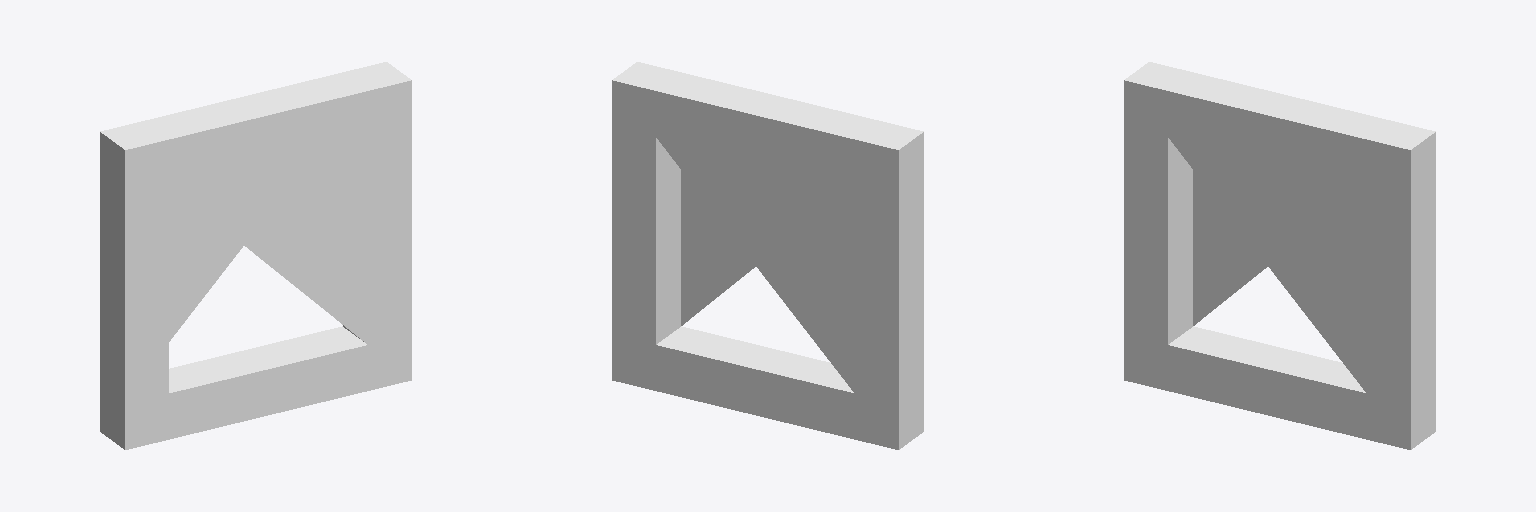
3 views of the same model, side by side, from view 1: azimuth 30°, elevation 25°; view 2: azimuth 150°, elevation 25°; view 3: azimuth 330°, elevation 25° (orthographic).
Parts seen in each view (by area): view 1: Layer_Model_Front; view 2: Layer_Model_Front; view 3: Layer_Model_Front.
Boxes of the visible parts, x1,y1,x2,y2 form: Layer_Model_Front: [100, 62, 411, 449]; Layer_Model_Front: [612, 62, 923, 449]; Layer_Model_Front: [1124, 62, 1435, 449].
Bounding box in the file's own units: 2.6 × 2.6 × 0.4.